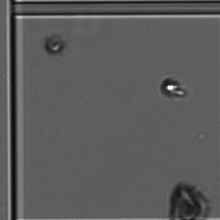Dead Cell: (166, 184, 204, 220), (44, 32, 69, 60)
Living Cell: (162, 73, 183, 98)
